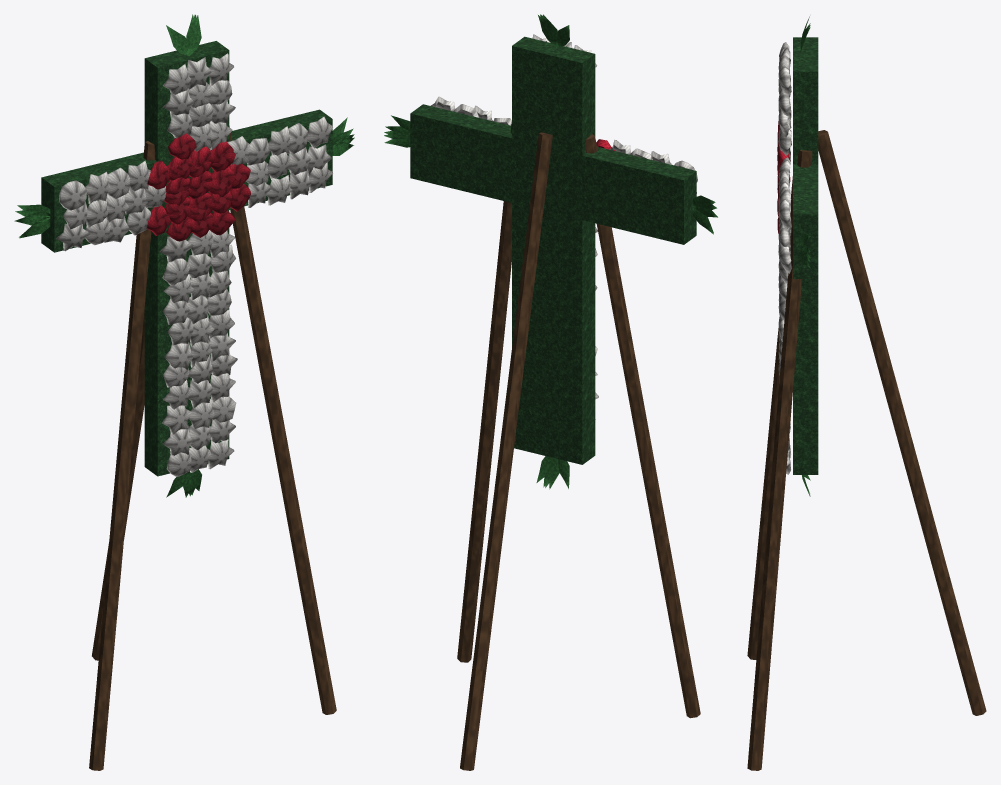
Rendered from corona_cruz.obj.
The picture shows the model from 3 angles, left to right: view 1: azimuth 30°, elevation 25°; view 2: azimuth 150°, elevation 25°; view 3: azimuth 270°, elevation 25°; orthographic projection.
Visible parts, largest first — view 1: Flores_Petalo_Blanco, Cube, Cylinder, Cylinder.001, Flores_Petalo_Rojo, Cube.001, Flores_Hoja_Verde_Oscuro, Cylinder.002; view 2: Cube, Cube.001, Cylinder.002, Cylinder, Cylinder.001, Flores_Hoja_Verde_Oscuro, Flores_Petalo_Blanco; view 3: Cylinder.002, Cylinder.001, Cube, Flores_Petalo_Blanco, Cube.001, Cylinder, Flores_Hoja_Verde_Oscuro.
Boxes of the visible parts, <box> form: Flores_Petalo_Blanco: <box>56,53,332,476</box>; Cube: <box>144,41,229,476</box>; Cylinder: <box>89,141,154,770</box>; Cylinder.001: <box>229,126,336,714</box>; Flores_Petalo_Rojo: <box>146,133,250,241</box>; Cube.001: <box>41,109,332,252</box>; Flores_Hoja_Verde_Oscuro: <box>14,14,354,497</box>; Cylinder.002: <box>92,309,144,660</box>; Cube: <box>512,36,595,464</box>; Cube.001: <box>410,104,696,244</box>; Cylinder.002: <box>460,132,552,770</box>; Cylinder: <box>585,134,700,718</box>; Cylinder.001: <box>457,121,511,662</box>; Flores_Hoja_Verde_Oscuro: <box>384,14,717,489</box>; Flores_Petalo_Blanco: <box>430,34,697,419</box>; Cylinder.002: <box>818,130,986,715</box>; Cylinder.001: <box>747,150,812,770</box>; Cube: <box>793,37,818,474</box>; Flores_Petalo_Blanco: <box>778,42,791,474</box>; Cube.001: <box>793,164,818,278</box>; Cylinder: <box>747,176,792,659</box>; Flores_Hoja_Verde_Oscuro: <box>800,16,810,496</box>.
Bounding box in the file's own units: 0.7592 × 1.5 × 0.4675.
5 materials, 5 textured.
